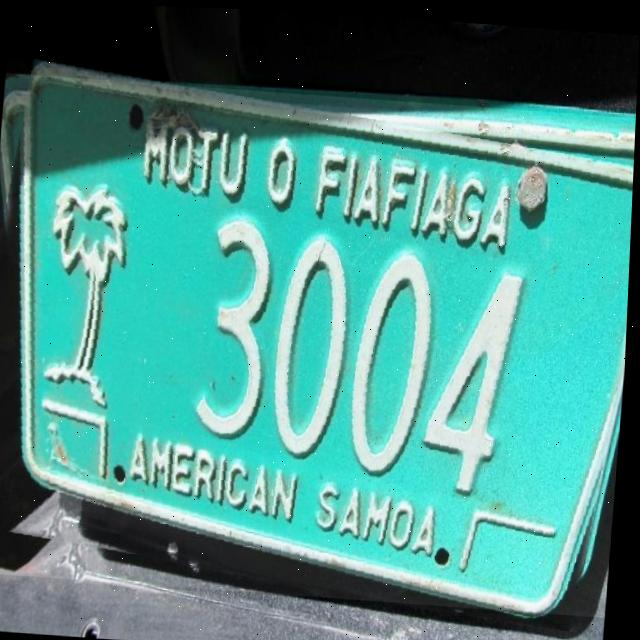LicensePlate: (0, 72, 637, 613)
